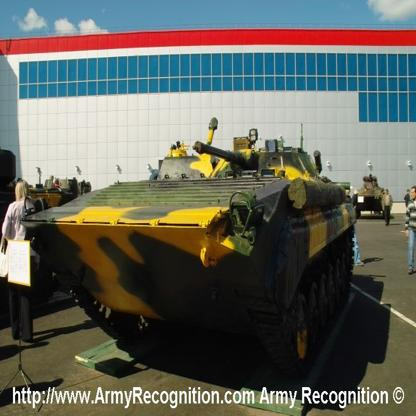Tank: (18, 120, 373, 377)
